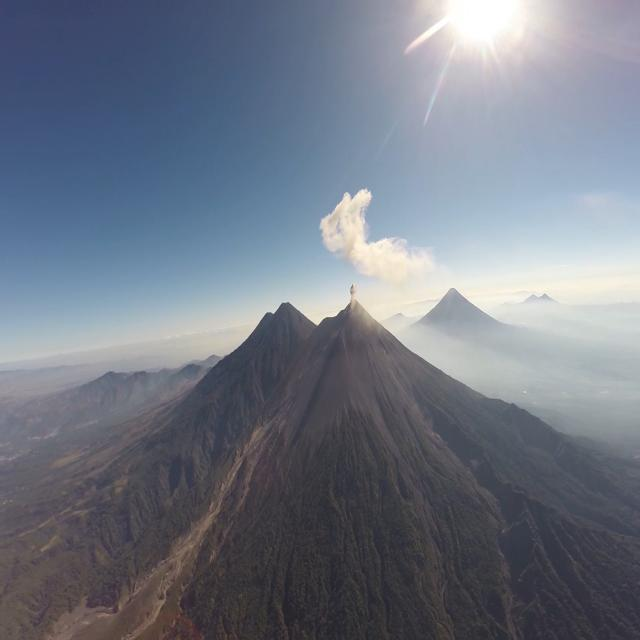Plume: (318, 186, 432, 287), (348, 282, 358, 306)
Summit: (337, 297, 375, 317)
